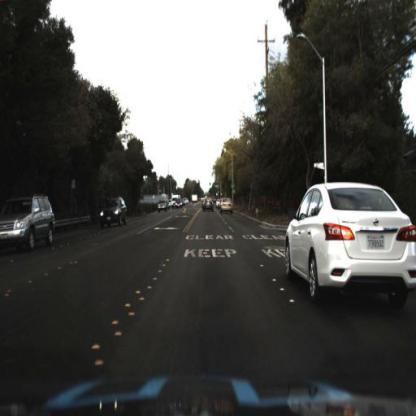car: (281, 182, 414, 306), (1, 196, 57, 254), (99, 195, 130, 233), (219, 195, 236, 218), (201, 196, 216, 215), (157, 199, 170, 216), (174, 196, 187, 211)
